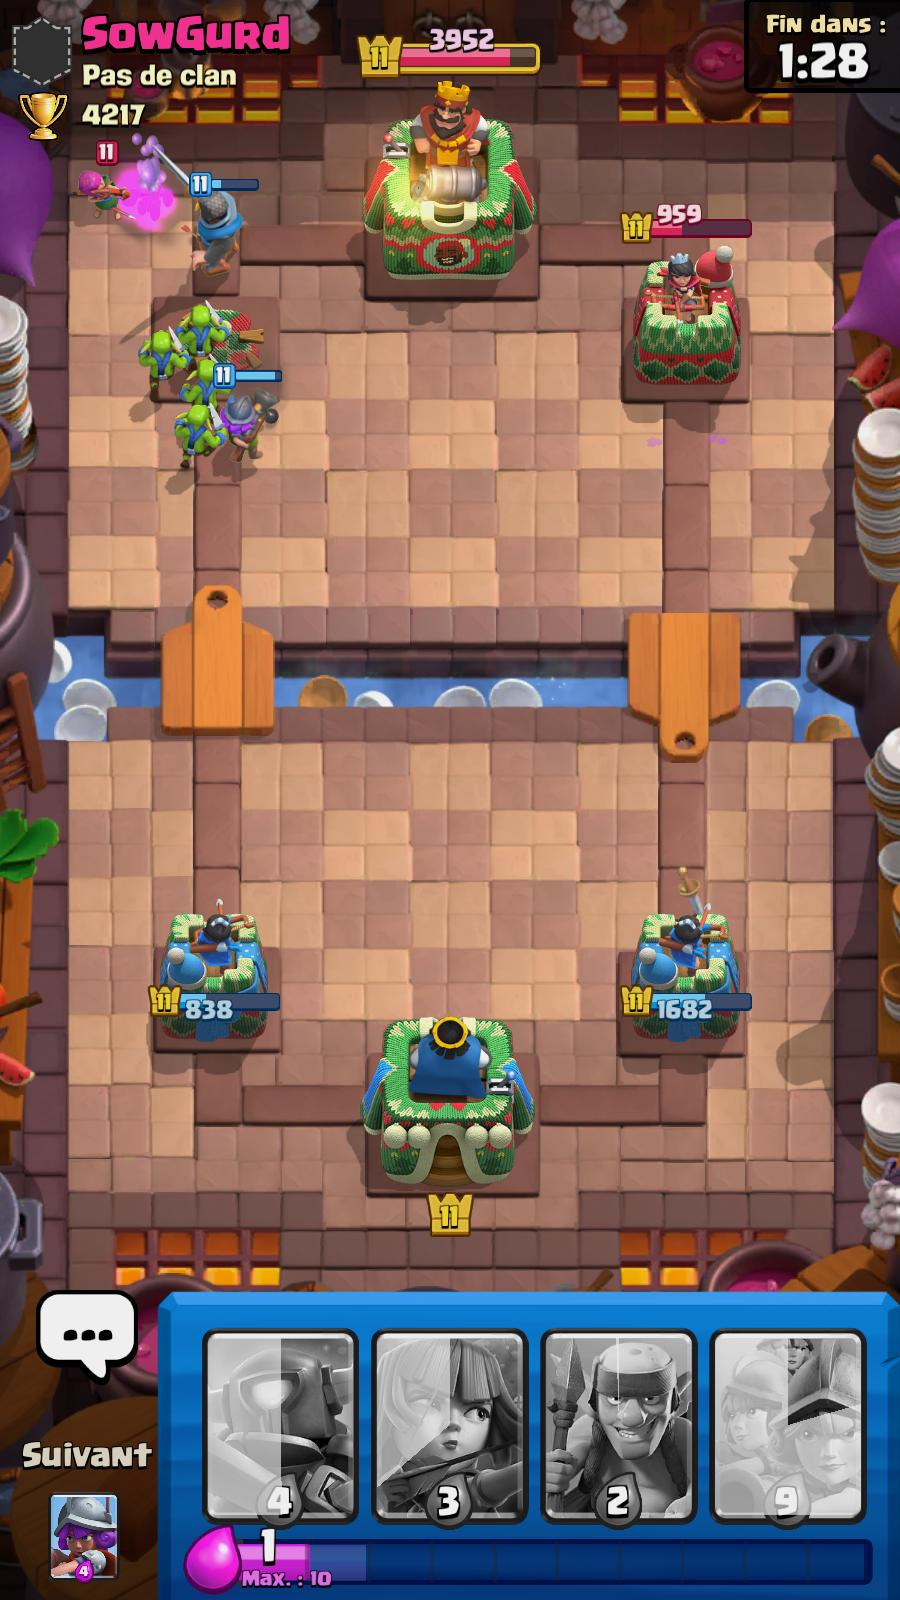archere: (77, 137, 130, 219)
chevalier: (152, 145, 259, 264)
gobelin: (181, 301, 230, 360), (178, 401, 218, 474), (142, 330, 182, 395), (186, 358, 230, 405)
mousquetaire: (213, 367, 287, 460)
